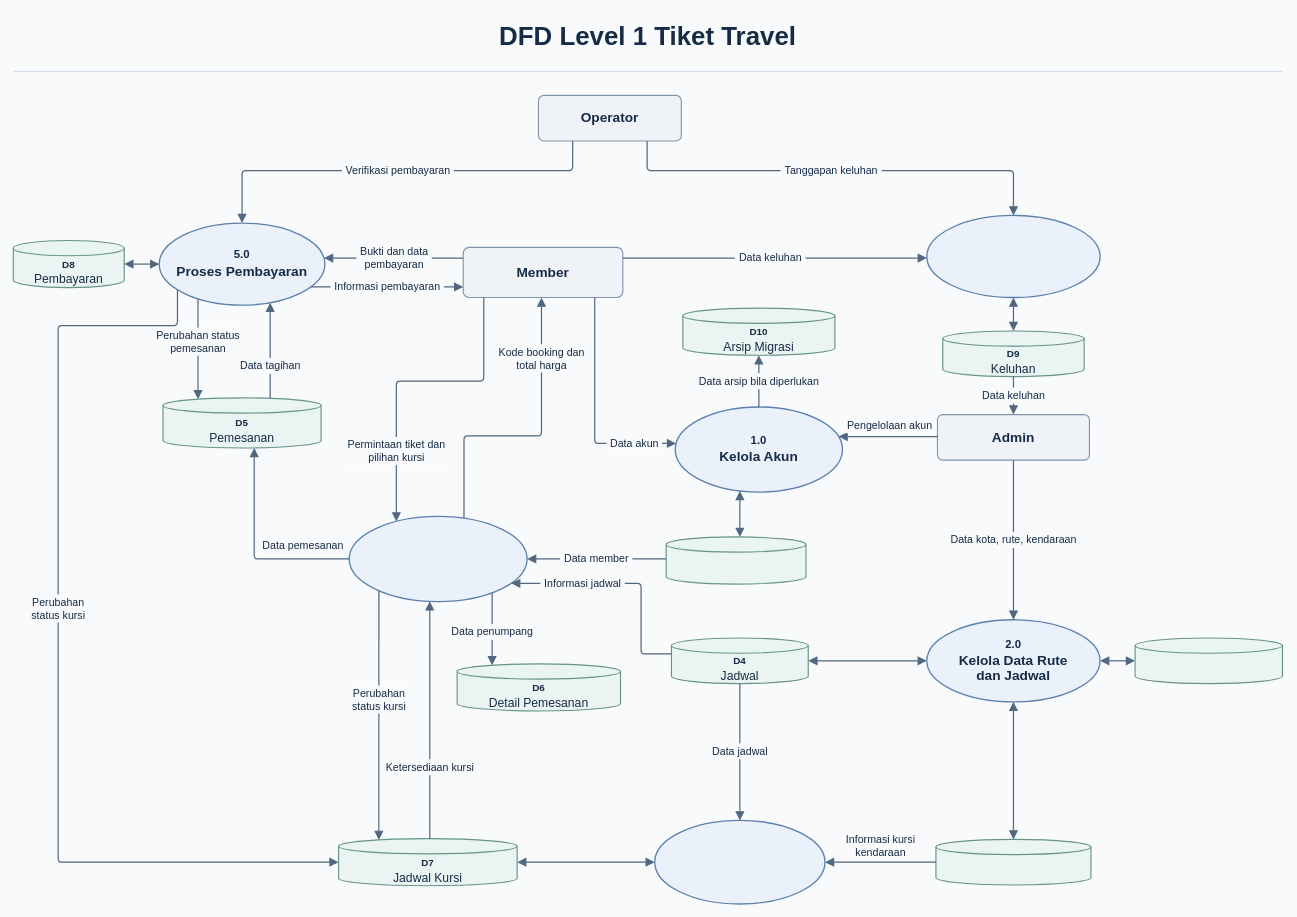
This 1297x917 diagram has some shape labels left out. Each missing label, with the centre of its shape:
"3.0 Kelola Kursi Kendaraan" belongs at point 739,861.
"4.0 Proses Pemesanan Tiket" belongs at point 437,558.
"6.0 Kelola Keluhan" belongs at point 1013,256.
"D1 Users" belongs at point 735,560.
"D2 Kota dan Rute" belongs at point 1208,660.
"D3 Kendaraan dan Kursi" belongs at point 1013,862.
